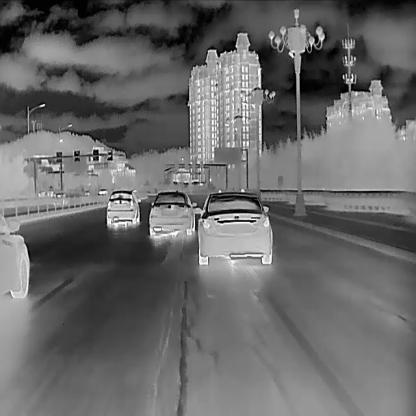car: (192, 191, 272, 265), (0, 210, 29, 299), (148, 189, 197, 236), (106, 188, 140, 226), (51, 192, 67, 206), (95, 188, 108, 197), (38, 190, 45, 198), (84, 189, 90, 195)
truck: (46, 184, 53, 196)
